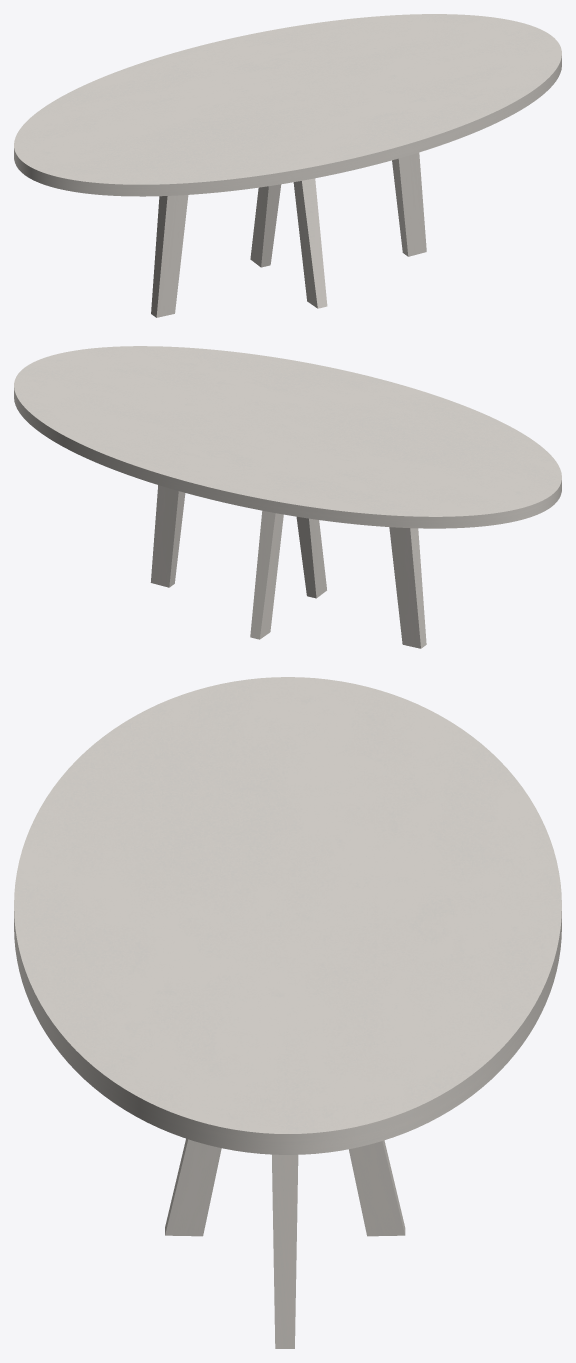
The model's file is pearlwhite_ellips_standard_searwalnut.glb.
3 views of the same model, one above another, from view 1: azimuth 30°, elevation 25°; view 2: azimuth 150°, elevation 25°; view 3: azimuth 270°, elevation 25° (orthographic). The views are drawn at different scales.
Visible parts, largest first — view 1: tabletop_ellips_standard.008, tableleg_searwalnut; view 2: tabletop_ellips_standard.008, tableleg_searwalnut; view 3: tabletop_ellips_standard.008, tableleg_searwalnut.
Boxes of the visible parts, left/top/right/bottom form: tabletop_ellips_standard.008: left=14, top=14, right=561, bottom=196; tableleg_searwalnut: left=151, top=152, right=426, bottom=317; tabletop_ellips_standard.008: left=14, top=346, right=561, bottom=528; tableleg_searwalnut: left=150, top=485, right=426, bottom=648; tabletop_ellips_standard.008: left=14, top=677, right=561, bottom=1154; tableleg_searwalnut: left=165, top=1138, right=405, bottom=1348.
Size of the model in its own units: 7.5 by 2.5 by 3.8.
Materials: 1 (1 with a texture image).
